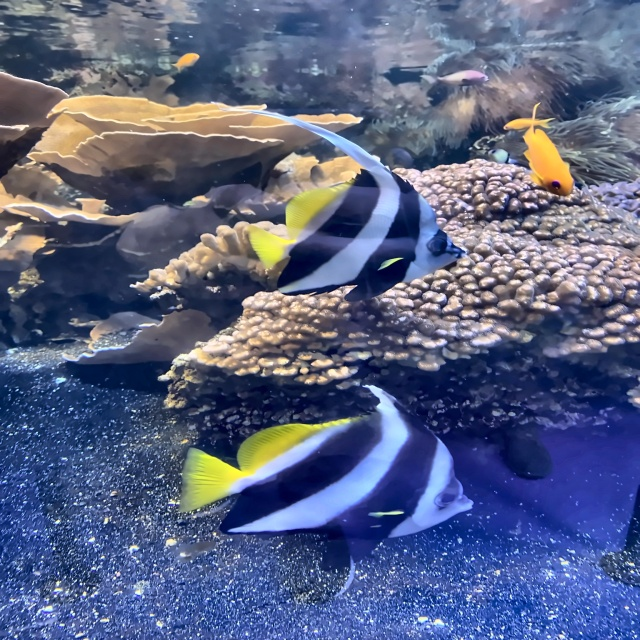fish: (183, 403, 472, 565), (252, 170, 467, 302), (522, 128, 573, 197)
